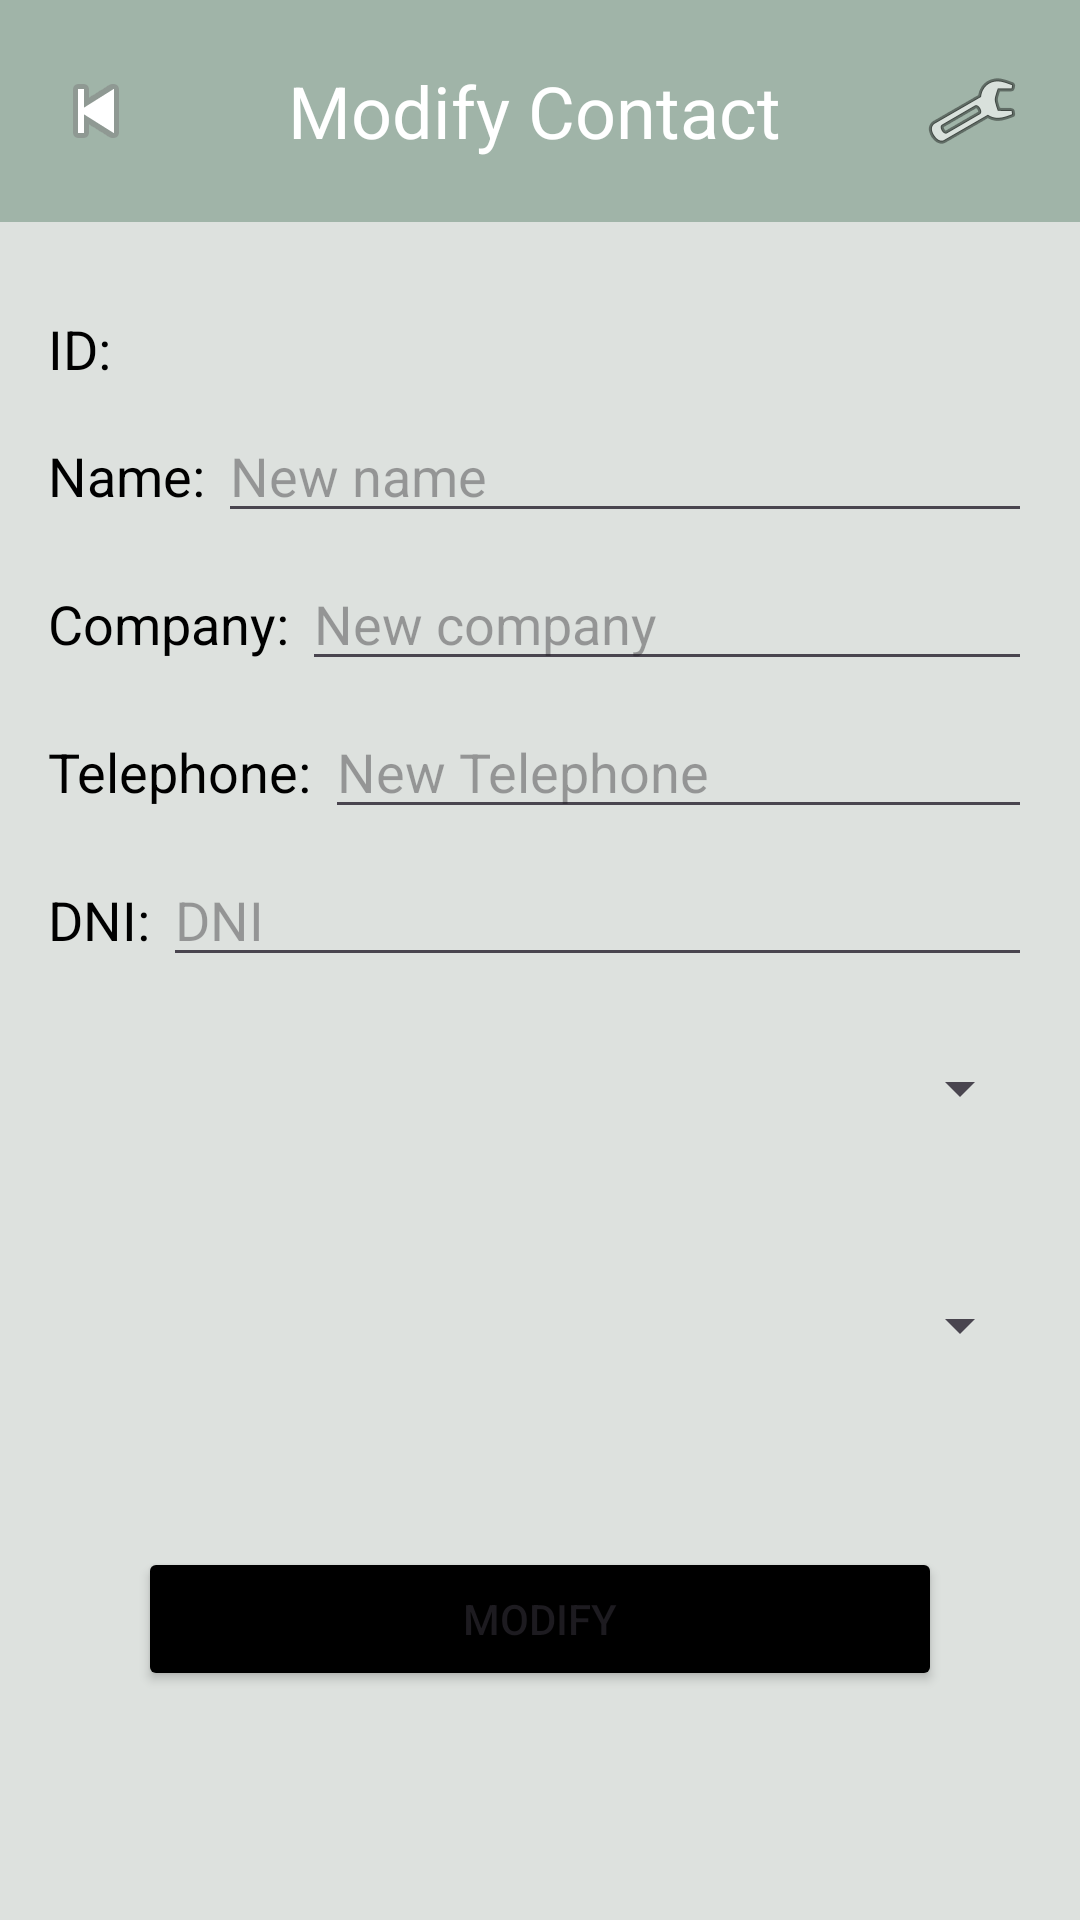

Icons on this 1080 x 1920 Android screen, each with its box as (x1, y1, x2, y2):
manage: (929, 78, 1015, 144)
previous: (73, 84, 119, 138)
